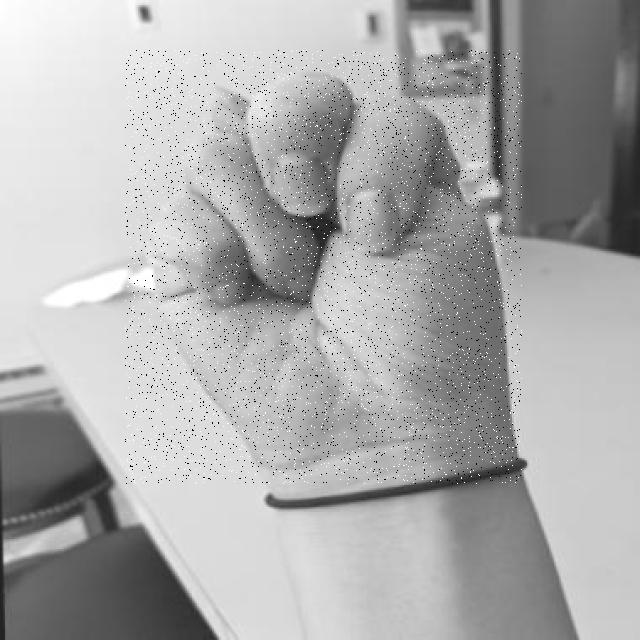N: (125, 50, 522, 484)
